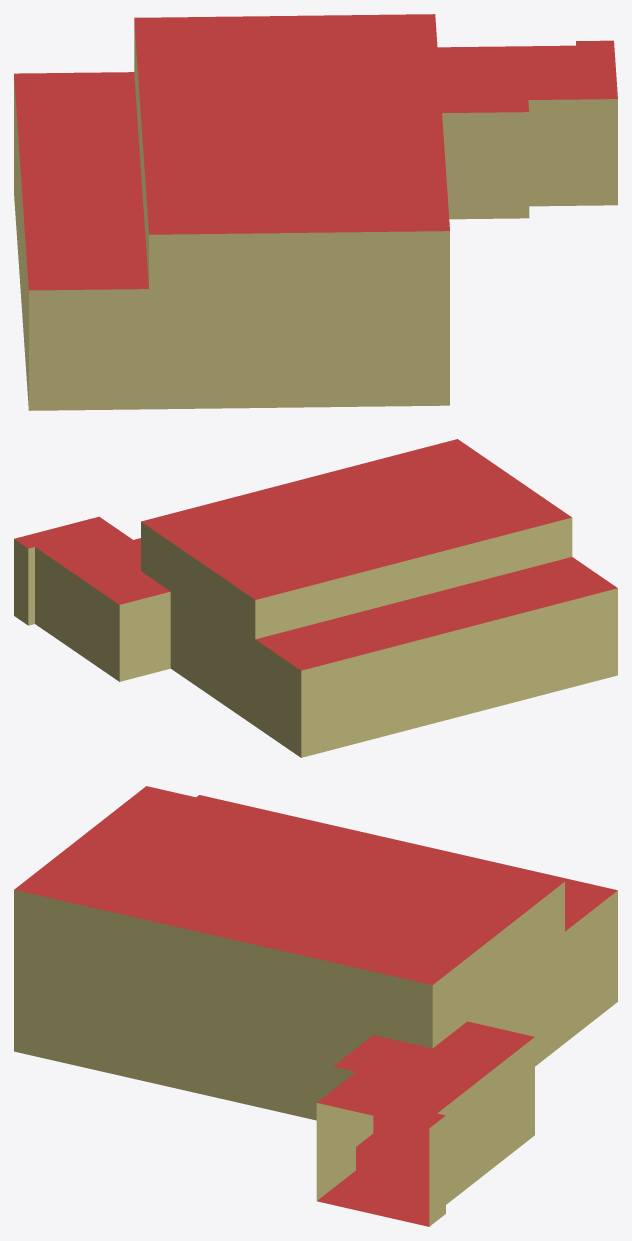
3 views of the same model, one above another, from view 1: azimuth 30°, elevation 25°; view 2: azimuth 150°, elevation 25°; view 3: azimuth 270°, elevation 25° (orthographic). The views are drawn at different scales.
Bounding box in the file's own units: 40.84 × 32.52 × 9.61.
